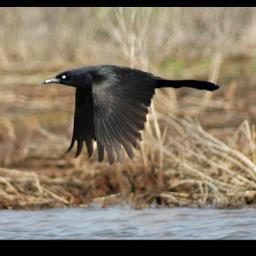Crow: (40, 63, 220, 166)
